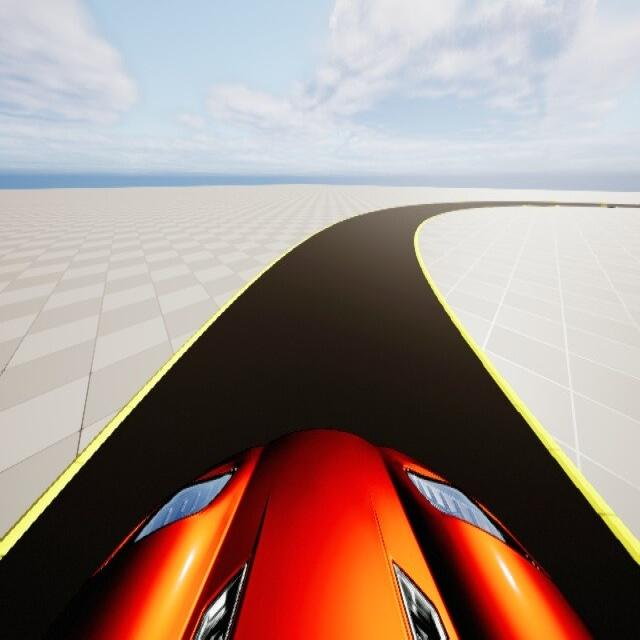lane: (0, 207, 639, 639)
